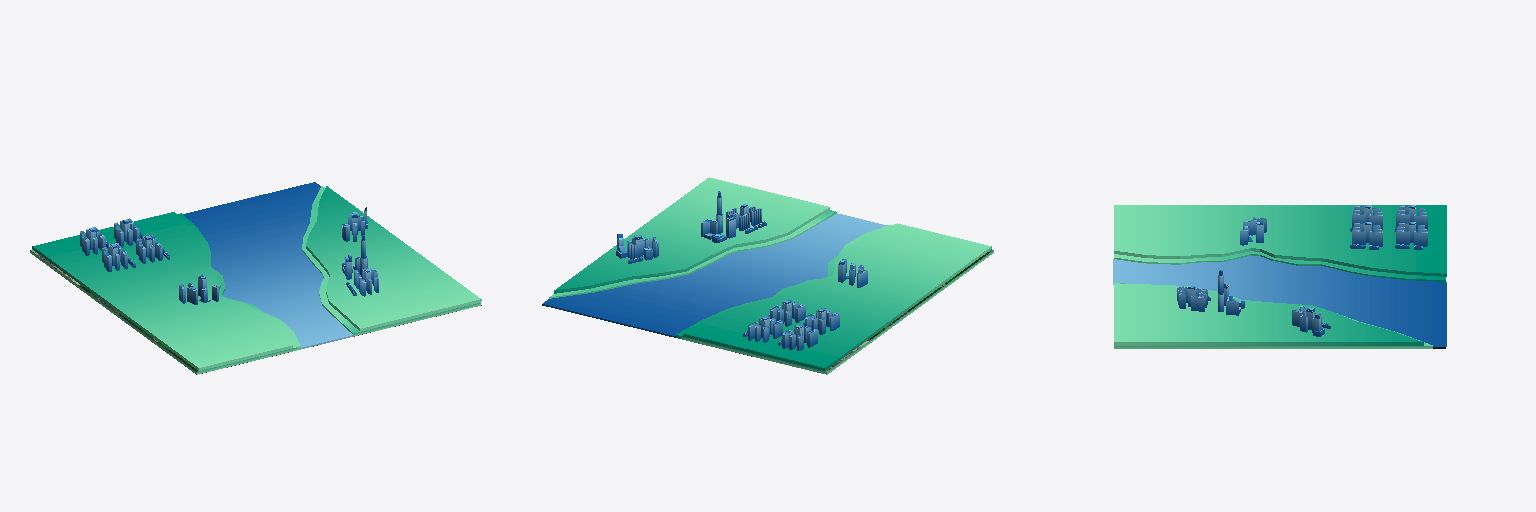
The picture shows the model from 3 angles: view 1: azimuth 30°, elevation 25°; view 2: azimuth 150°, elevation 25°; view 3: azimuth 270°, elevation 25°; orthographic projection.
Visible parts, largest first — view 1: ����013; view 2: ����013; view 3: ����013.
Part boxes in pixels (x1,y1,x2,y2): ����013: (30,182,481,374); ����013: (542,177,993,374); ����013: (1113,205,1446,348).
Size of the model in its own units: 1073 by 168 by 1086.
4 materials, 3 textured.